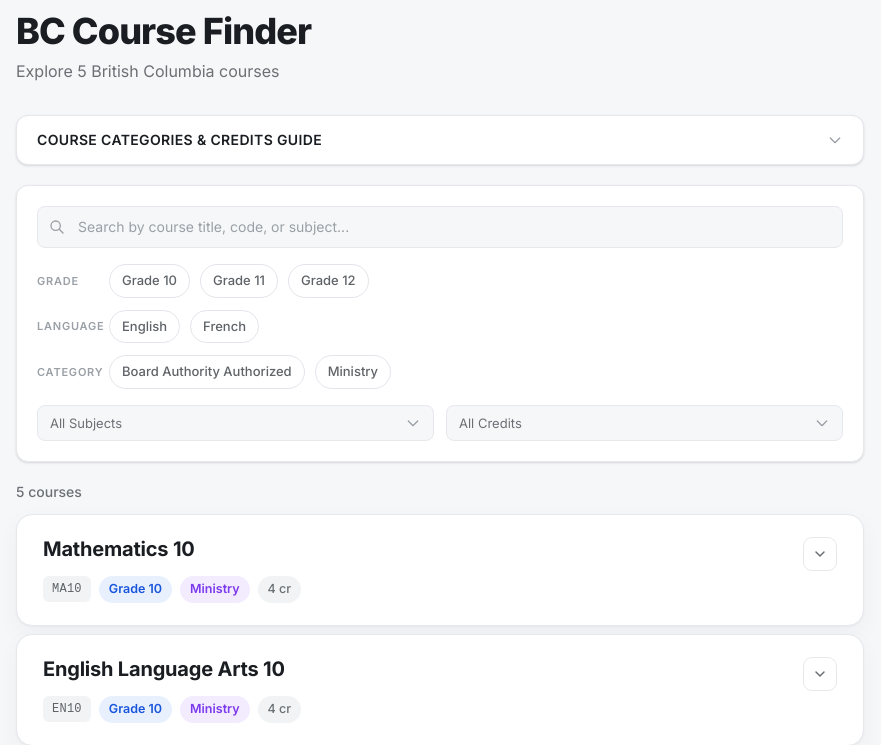
Test case: Home page — glossary › expands and collapses the glossary on toggle
The image size is (881, 745).
Expected: the text "Mathematics 10" is shown, [43, 537, 195, 561]
Click the button "Course categories & credits guide".
click(179, 140)  # box [17, 116, 863, 164]
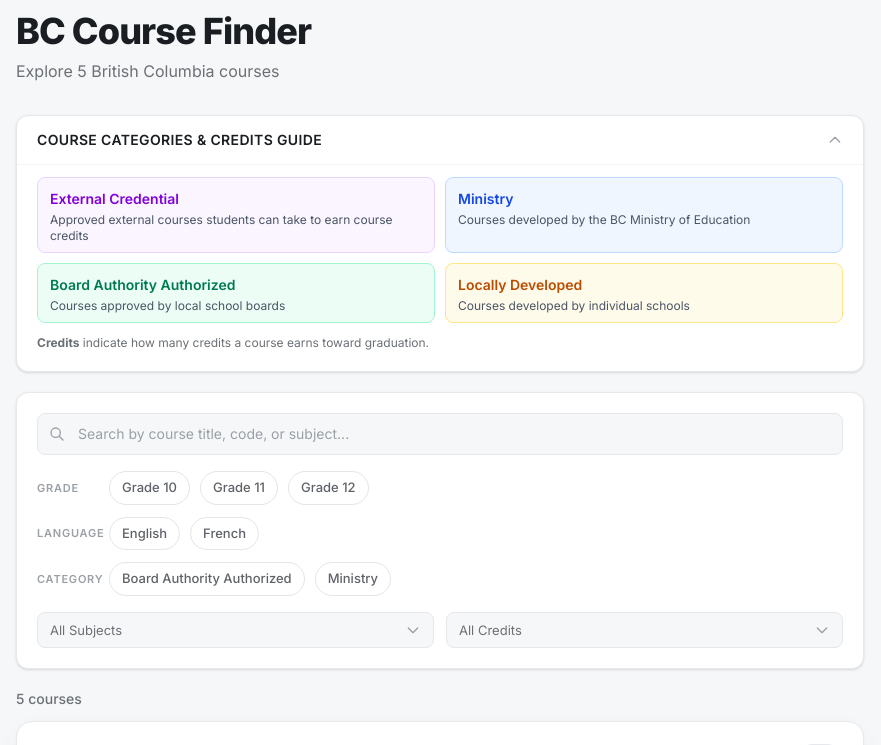
Expected: the text "Locally Developed" is shown, [458, 276, 582, 293]
Click the button "Course categories & credits guide".
click(179, 140)  # box [17, 116, 863, 164]
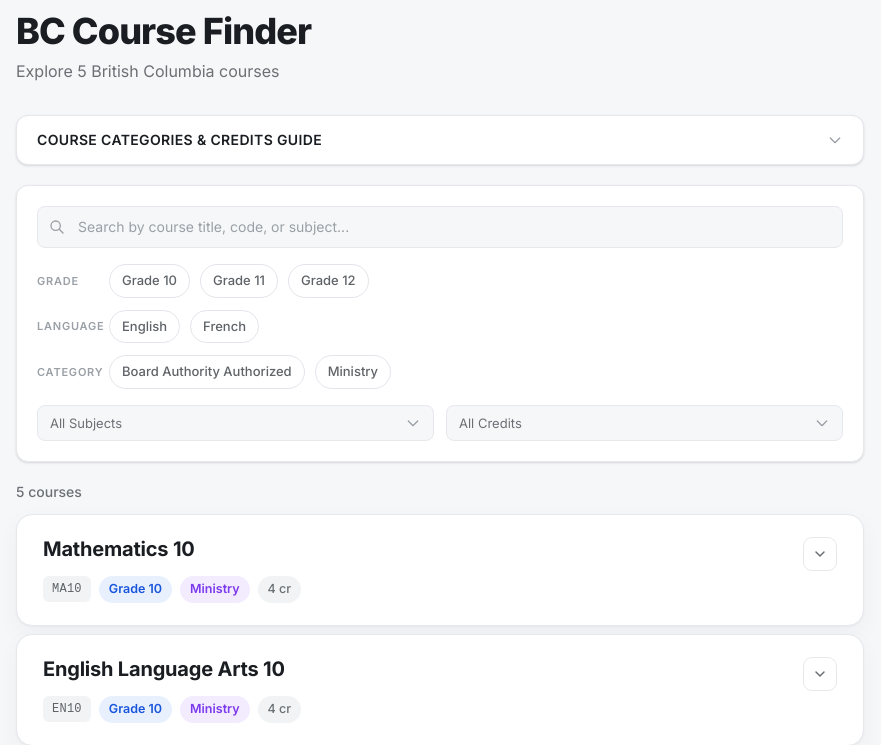
Expected: the text "Locally Developed" is gone
